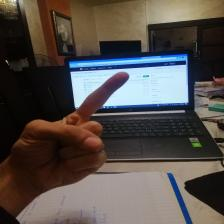one: (16, 65, 136, 195)
